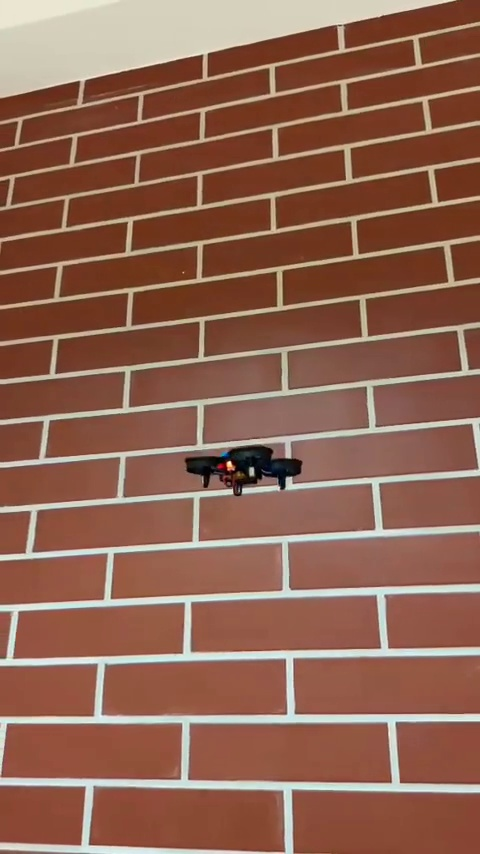drone: (184, 440, 300, 498)
